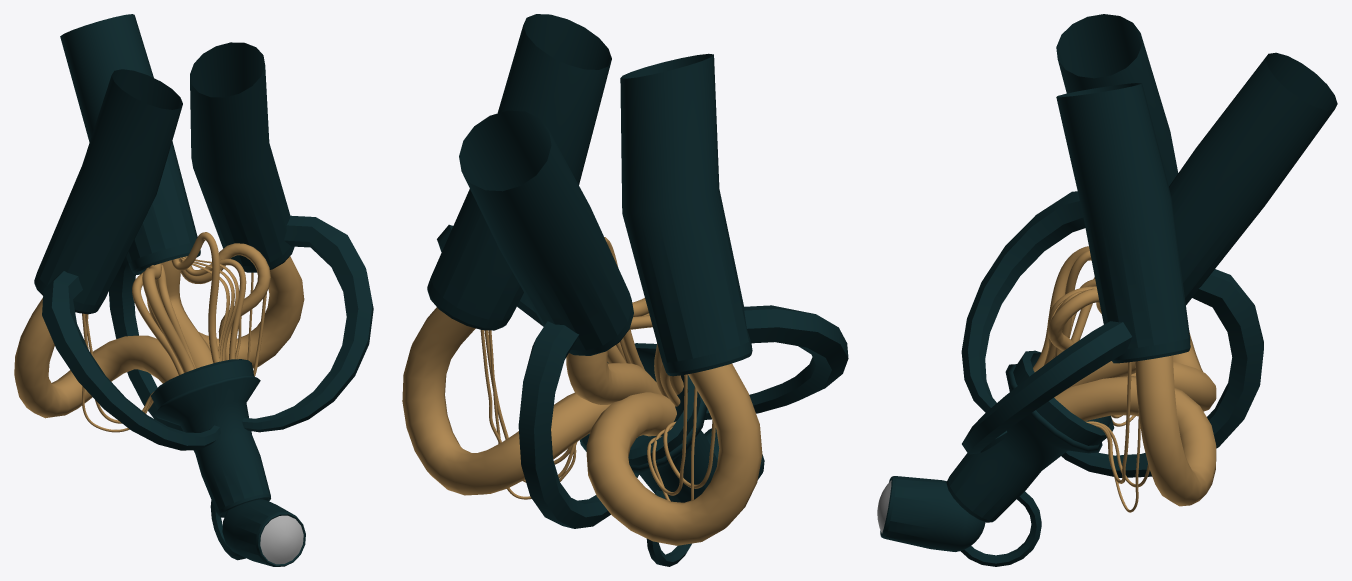
File: EmojiHorror03.fbx
3 renders of one model, left to right at view 1: azimuth 30°, elevation 25°; view 2: azimuth 150°, elevation 25°; view 3: azimuth 270°, elevation 25°, orthographic. The views are drawn at different scales.
Visible parts, largest first — view 1: pSphere6, pSphere5, pSphere3, pSphere2, pTorus3, brush7Main, pTorus5, pSphere1, brush6Main, pTorus4, birchLimb1Main, brush5Main (+7 smaller); view 2: pSphere6, pSphere3, pSphere5, brush7Main, brush6Main, pTorus4, pTorus5, pSphere2, brush5Main, birchLimb12Main, pTorus1, birchLimb11Main (+4 smaller); view 3: pSphere5, pSphere3, brush6Main, pSphere2, pTorus4, pSphere6, pTorus5, pTorus3, pSphere1, brush7Main, pTorus1, birchLimb1Main (+4 smaller).
Boxes of the visible parts, x1,y1,x2,y2 form: pSphere6: (34,69,182,314); pSphere5: (190,42,294,272); pSphere3: (60,14,200,274); pSphere2: (151,359,270,517); pTorus3: (242,215,373,432); brush7Main: (14,298,178,418); pTorus5: (42,271,220,450); pSphere1: (222,499,305,566); brush6Main: (199,256,304,368); pTorus4: (109,256,183,431); birchLimb1Main: (179,243,270,360); brush5Main: (147,258,213,368); pSphere6: (620,53,752,376); pSphere3: (459,110,633,355); pSphere5: (427,14,611,330); brush7Main: (586,363,762,545); brush6Main: (402,307,610,495); pTorus4: (518,321,639,528); pTorus5: (704,305,848,419); pSphere2: (580,343,717,502); brush5Main: (566,350,661,404); birchLimb12Main: (647,374,687,495); pTorus1: (646,490,691,566); birchLimb11Main: (652,386,697,501); pSphere5: (1056,83,1190,363); pSphere3: (1169,52,1337,304); brush6Main: (1054,355,1216,506); pSphere2: (946,350,1114,522); pTorus4: (1061,269,1263,477); pSphere6: (1056,14,1178,186); pTorus5: (961,191,1085,412); pTorus3: (962,321,1132,454); pSphere1: (877,476,985,551); brush7Main: (1131,332,1216,411); pTorus1: (960,491,1041,566); birchLimb1Main: (1048,288,1101,351).
Size of the model in its own units: 331 by 466 by 379.
